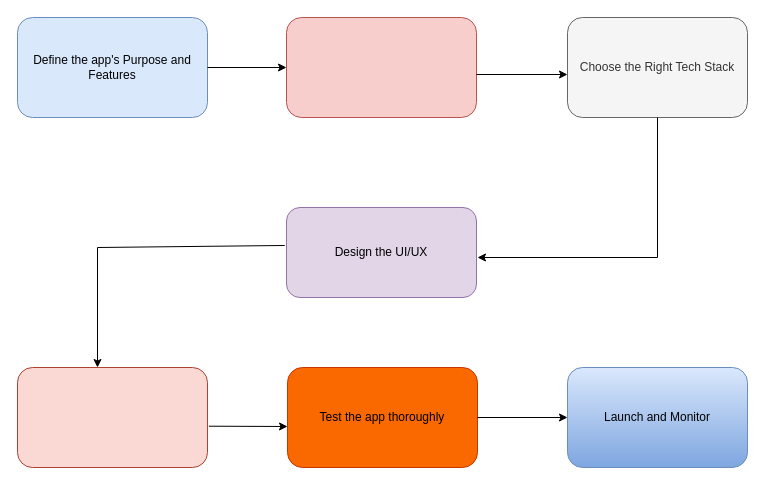
Image size: 765x485. Some labels were removed from this diagram. Here are the shapes that lost their labels. From the top down, the centre of each, then its label:
At (381,67): "Create wireframes and userflow".
At (112,417): "Develop the front end and backend".
